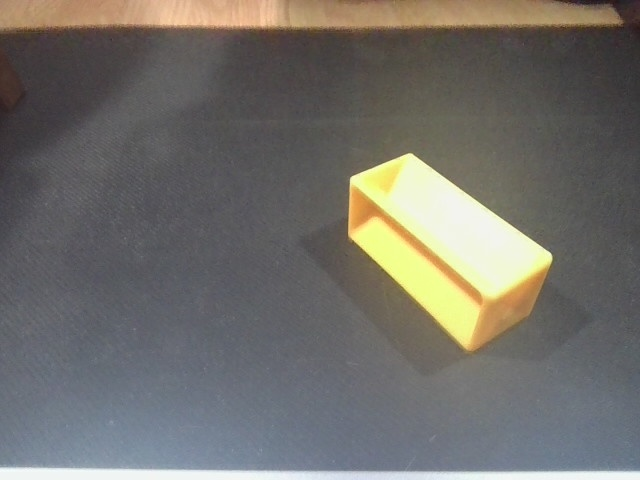YellowSample: (343, 151, 555, 356)
